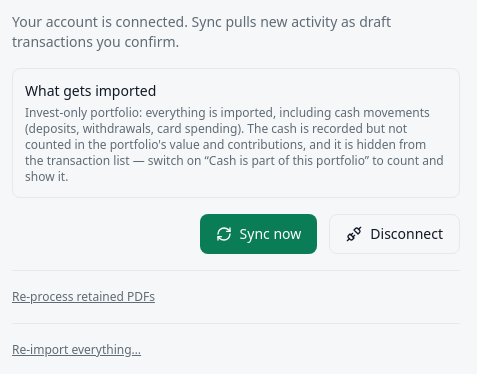
Scenario: TrConnectFlow › re-processes retained PDFs from the connected state
This screenshot has width=477, height=374.
Click the button "Re-process retained PDFs" at (83, 297), box [12,289,155,305]
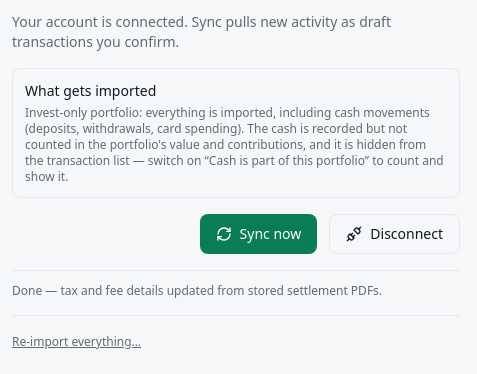
Result: the text "Done — tax and fee details updated from stored settlement PDFs." is shown at [12,282,382,299]
